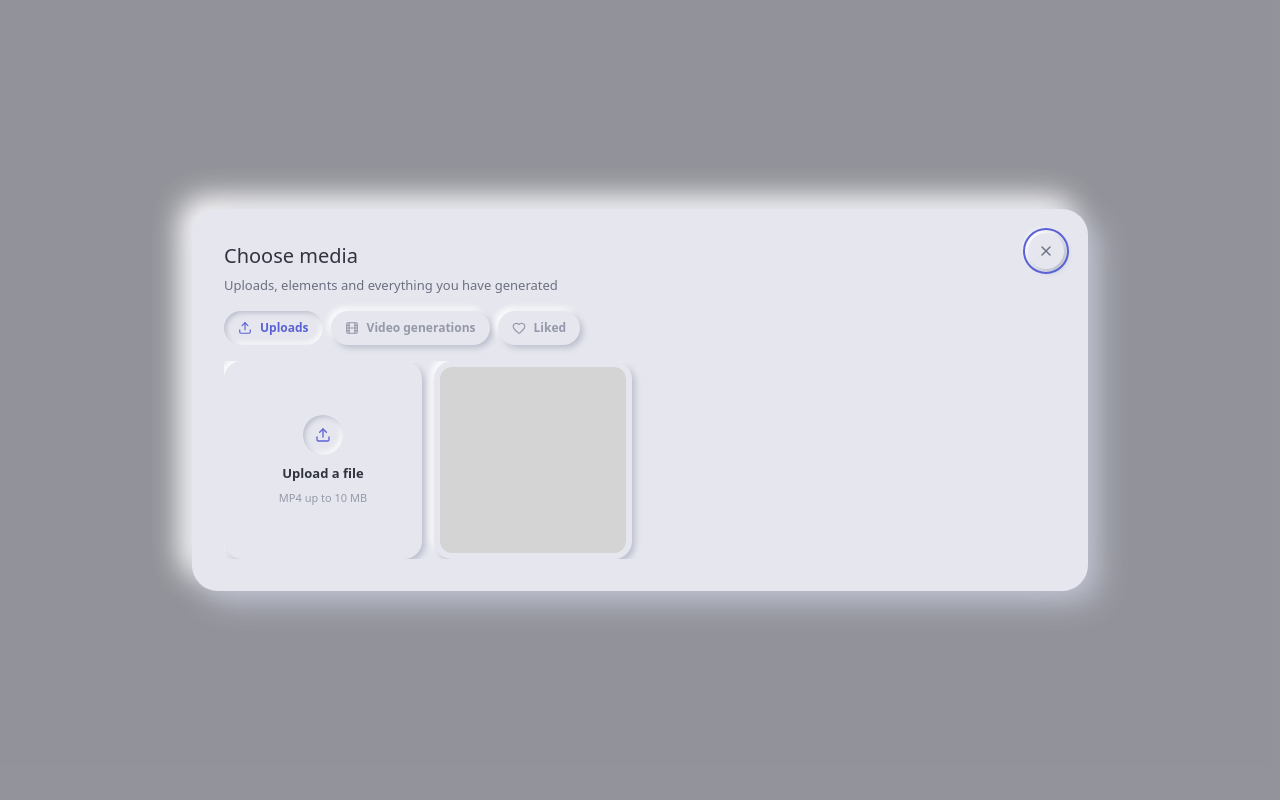
it: MediaPicker › offers clips instead of stills when the caller wants a video
The width and height of the screenshot is (1280, 800).
Step 1. Click the tab "Video generations" → click(410, 328), box [331,311,490,345]
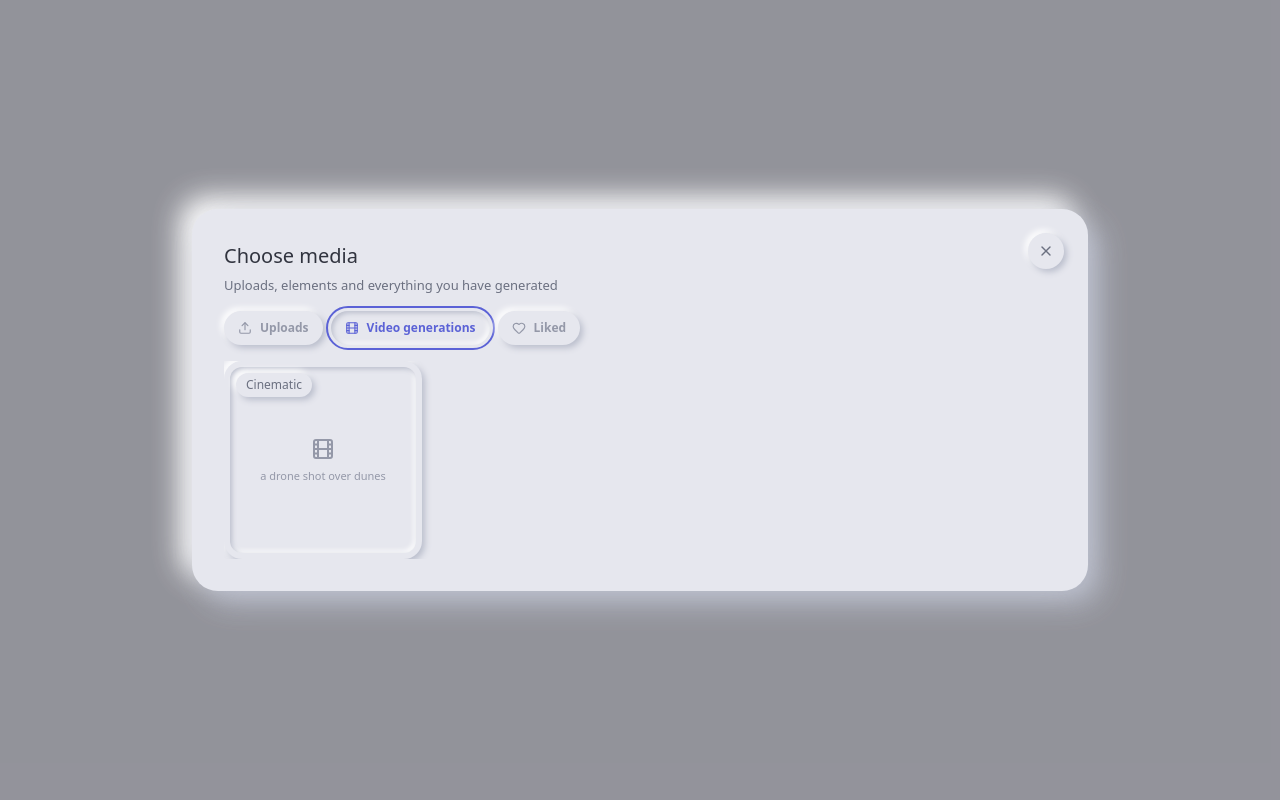
Expected: the button with aria-label "select — a drone shot over dunes" is shown, [224,361,422,559]
